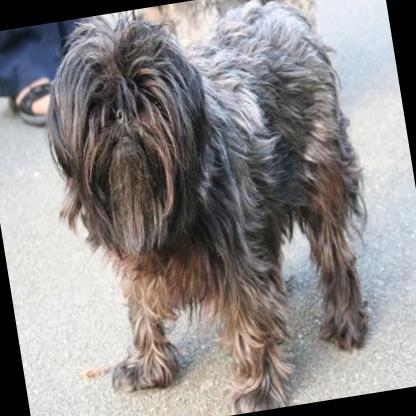affenpinscher: (25, 0, 396, 416)
